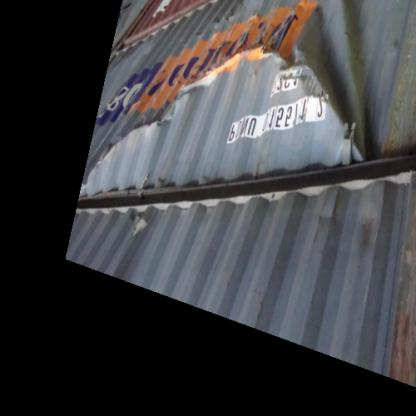Damage: (84, 6, 364, 198)
